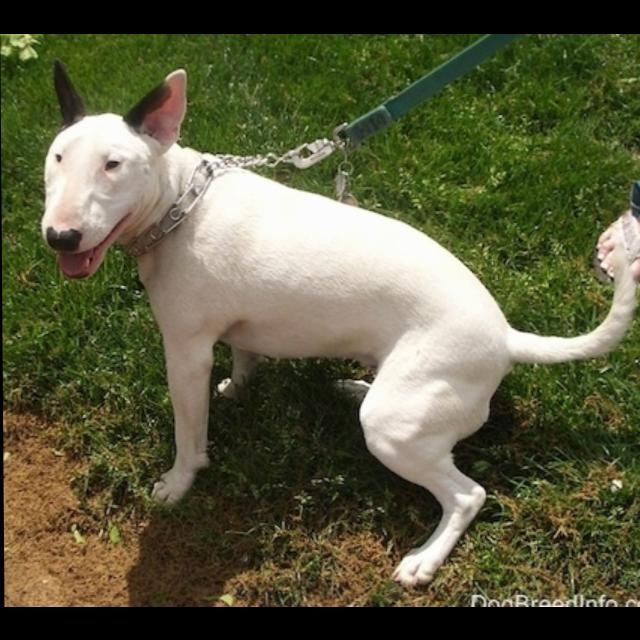bullterrier: (39, 57, 640, 588)
